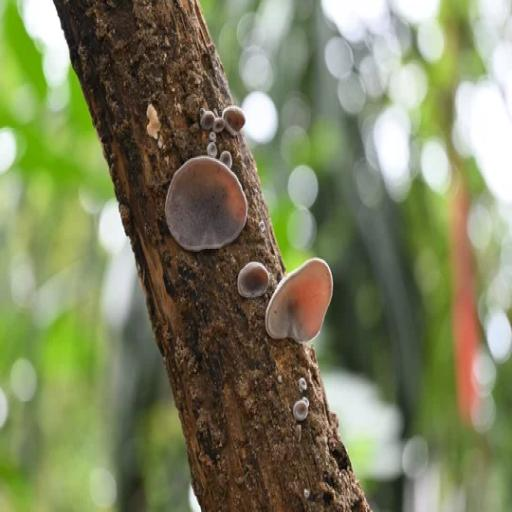Wood Ear Mushroom: (164, 149, 250, 258), (265, 253, 334, 349), (196, 104, 246, 160), (236, 257, 269, 300)
